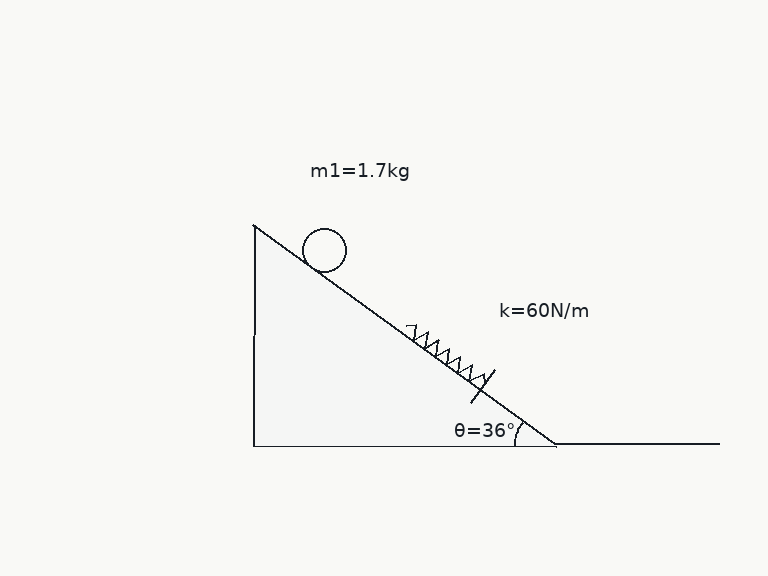ball: (300, 226, 348, 274)
ramp: (251, 224, 557, 447)
spring: (404, 322, 487, 385)
